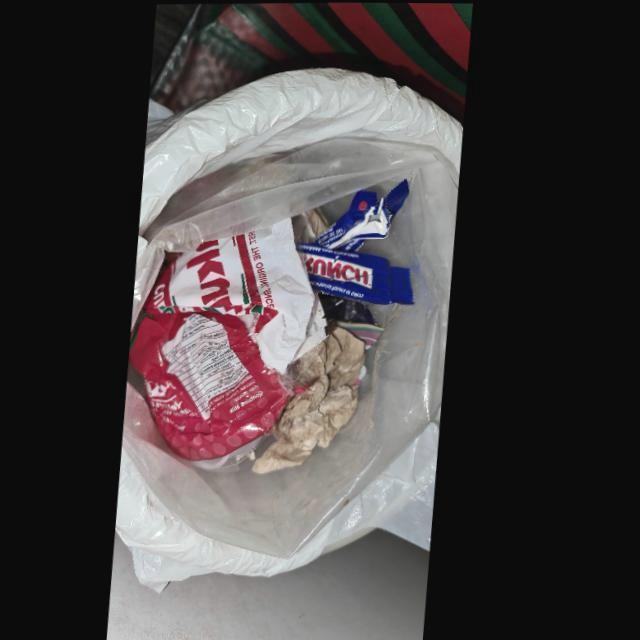food_wrapper: (136, 216, 335, 459), (306, 243, 421, 304), (318, 177, 413, 249)
paper: (261, 326, 372, 472)
